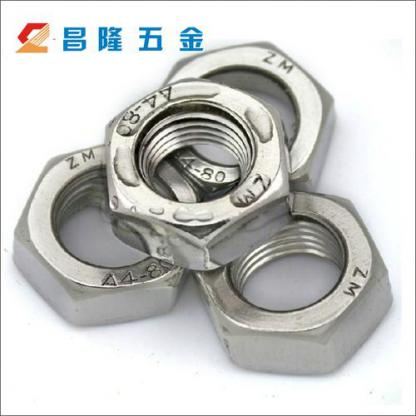FOD: (186, 188, 397, 377), (99, 74, 296, 274), (13, 139, 202, 327), (152, 35, 336, 203)
